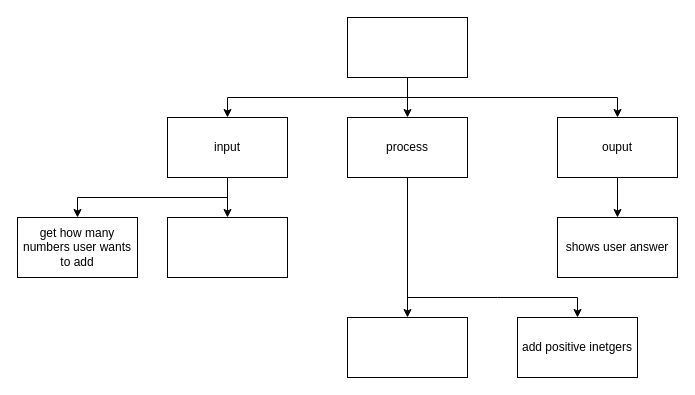
Some shapes in this 695 by 395 pixel diagram are drawn without their labels. Each missing label, with the box of its shape:
check if numbers to add are positive: (346, 316, 468, 378)
continue statement program: (346, 16, 468, 78)
get numbers to add from user: (166, 216, 288, 278)
